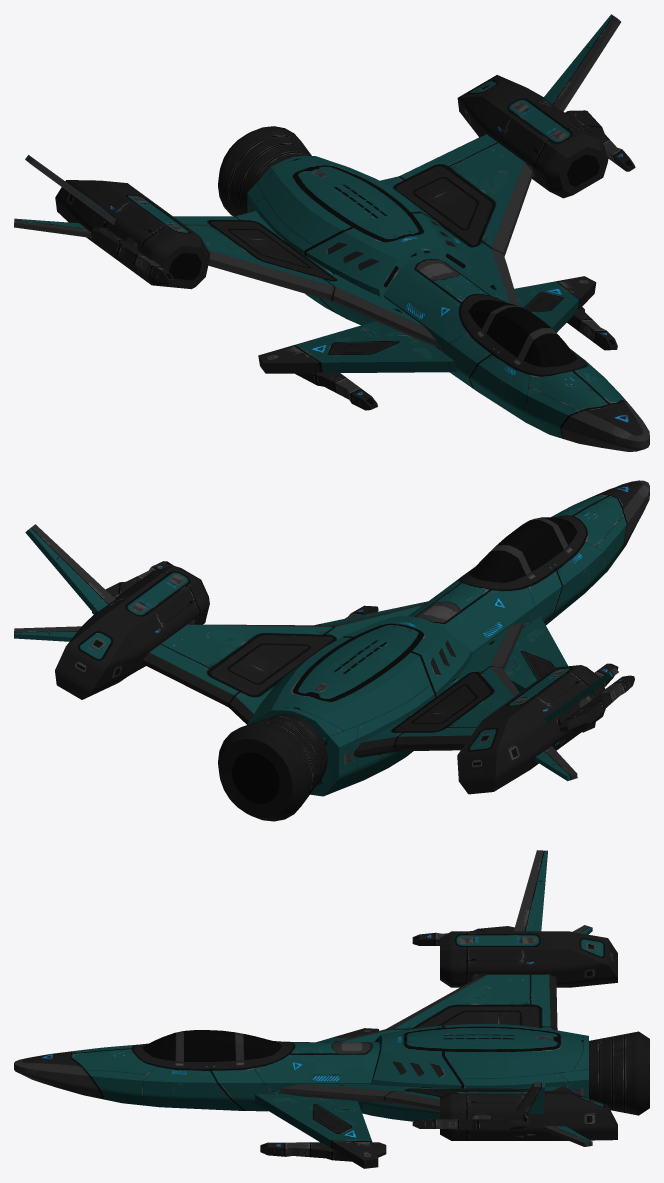
The model's file is StarSparrow_Spear.fbx.
The picture shows the model from 3 angles, top to bottom: view 1: azimuth 30°, elevation 25°; view 2: azimuth 150°, elevation 25°; view 3: azimuth 270°, elevation 25°; orthographic projection. The views are drawn at different scales.
Parts seen in each view (by area): view 1: StarSparrow_Spear; view 2: StarSparrow_Spear; view 3: StarSparrow_Spear.
Part boxes in pixels (x1,y1,x2,y2): StarSparrow_Spear: (14, 14, 649, 451); StarSparrow_Spear: (14, 480, 649, 821); StarSparrow_Spear: (14, 850, 649, 1168).
Size of the model in its own units: 943 by 273 by 1078.
